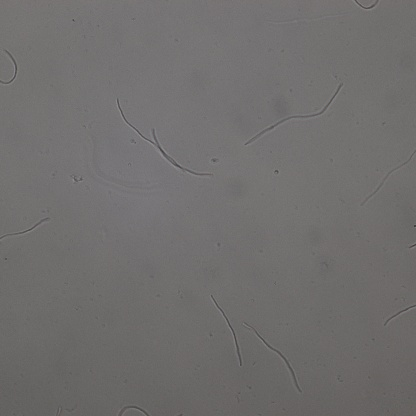Sensitive: (244, 83, 342, 143), (116, 98, 183, 172), (244, 323, 301, 392), (362, 149, 415, 207), (154, 129, 212, 175), (212, 295, 243, 365), (1, 217, 51, 244), (385, 303, 416, 326)
